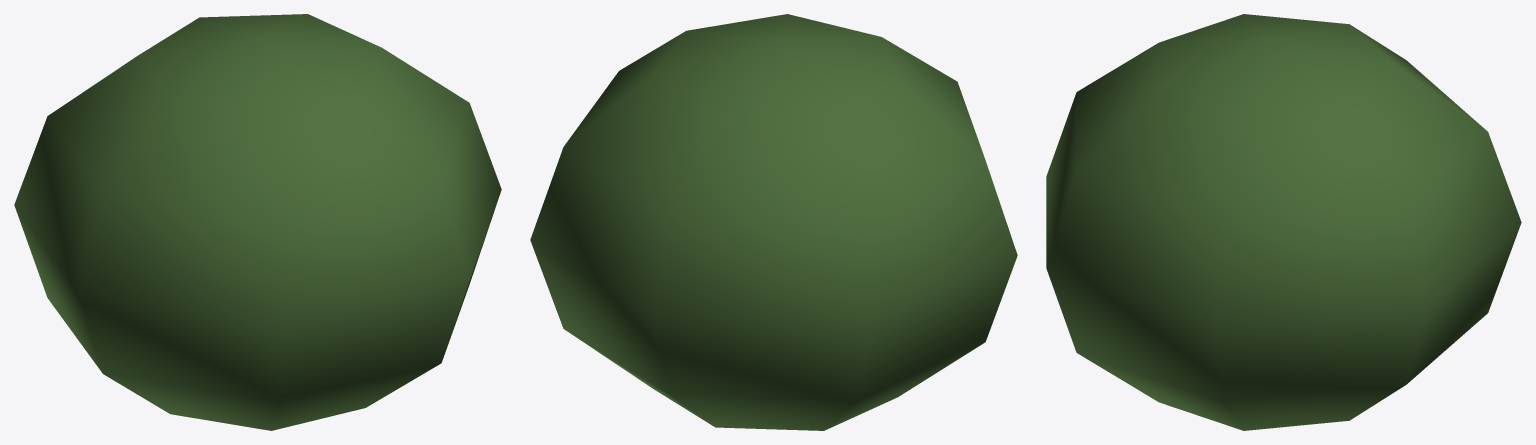
File: plant-bush.glb
The picture shows the model from 3 angles, left to right: view 1: azimuth 30°, elevation 25°; view 2: azimuth 150°, elevation 25°; view 3: azimuth 270°, elevation 25°; orthographic projection.
Parts seen in each view (by area): view 1: 00_#4a6a38_r110; view 2: 00_#4a6a38_r110; view 3: 00_#4a6a38_r110.
Part boxes in pixels (box(x1,y1,x2,y2)): 00_#4a6a38_r110: box(14, 14, 501, 430); 00_#4a6a38_r110: box(530, 14, 1017, 430); 00_#4a6a38_r110: box(1046, 14, 1521, 430).
Size of the model in its own units: 0.585 by 0.48 by 0.5703.
